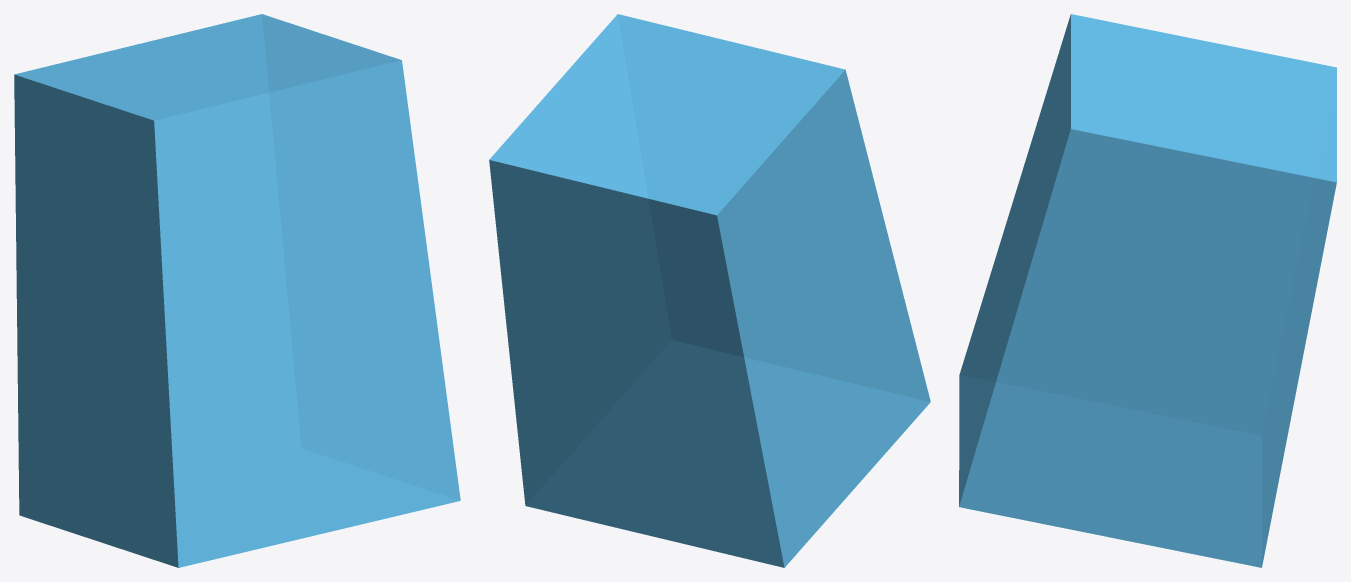
File: Event_421364160_HBrechit_5.fbx
The picture shows the model from 3 angles, left to right: view 1: azimuth 30°, elevation 25°; view 2: azimuth 150°, elevation 25°; view 3: azimuth 270°, elevation 25°; orthographic projection. The views are drawn at different scales.
Parts seen in each view (by area): view 1: Model; view 2: Model; view 3: Model.
Part boxes in pixels (<box>): Model: <box>14,14,460,567</box>; Model: <box>489,14,930,567</box>; Model: <box>959,14,1336,567</box>.
Size of the model in its own units: 0.4563 by 0.7138 by 0.5569.
